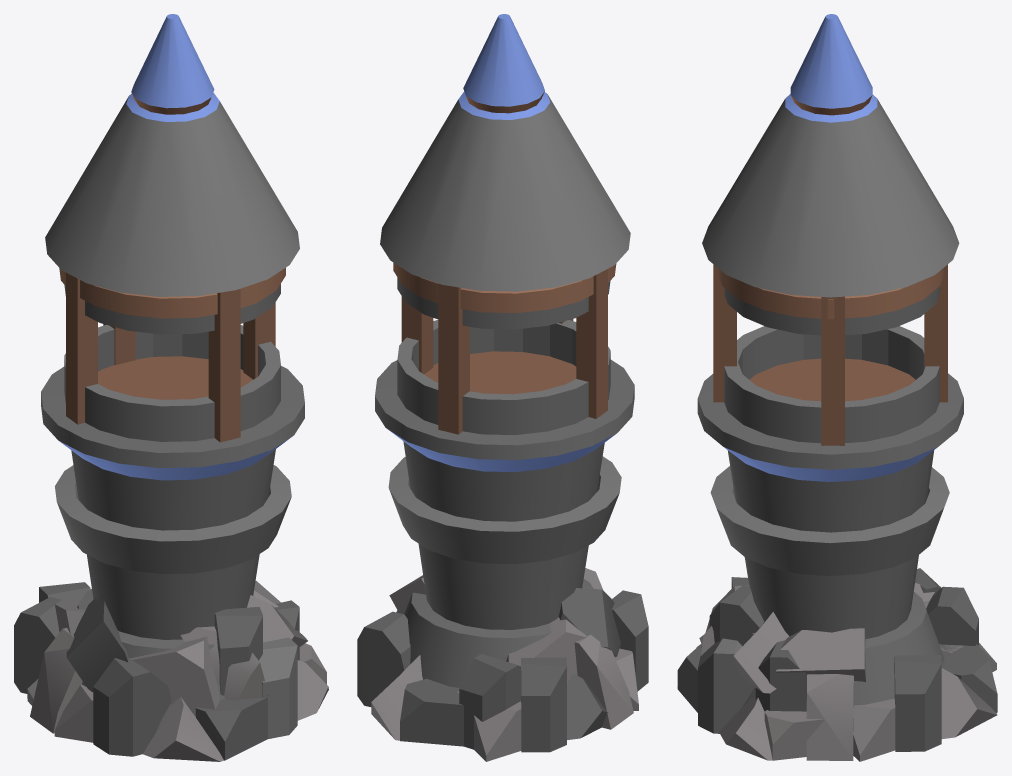
The model's file is ArcherTowerLevel3.fbx.
The picture shows the model from 3 angles, left to right: view 1: azimuth 30°, elevation 25°; view 2: azimuth 150°, elevation 25°; view 3: azimuth 270°, elevation 25°; orthographic projection. The views are drawn at different scales.
Visible parts, largest first — view 1: Cylinder.002; view 2: Cylinder.002; view 3: Cylinder.002.
Part boxes in pixels (bbox=[...]): Cylinder.002: bbox=[14, 14, 328, 761]; Cylinder.002: bbox=[357, 14, 648, 761]; Cylinder.002: bbox=[677, 14, 997, 761].
Bounding box in the file's own units: 229 × 210 × 541.
